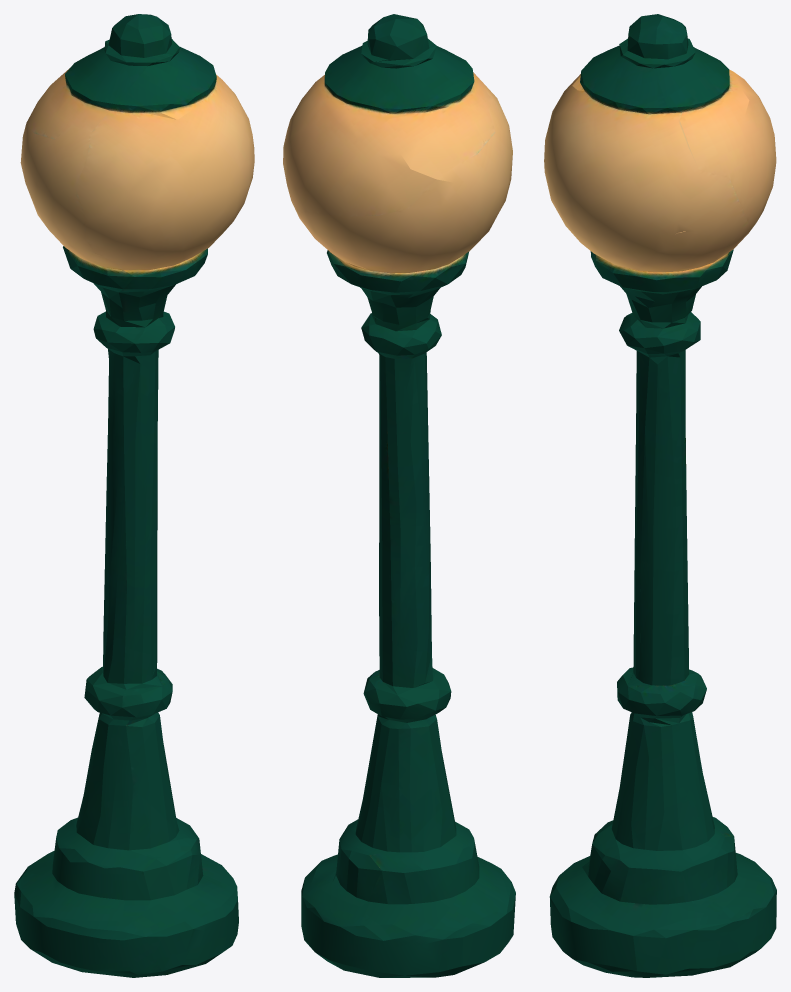
Rendered from lamp.glb.
3 renders of one model, left to right at view 1: azimuth 30°, elevation 25°; view 2: azimuth 150°, elevation 25°; view 3: azimuth 270°, elevation 25°, orthographic.
Visible parts, largest first — view 1: model; view 2: model; view 3: model.
Boxes of the visible parts, x1,y1,x2,y2 form: model: (14, 14, 254, 977); model: (283, 14, 515, 977); model: (544, 14, 776, 977).
Bounding box in the file's own units: 0.4476 × 1.9 × 0.4324.
1 material, 1 textured.
